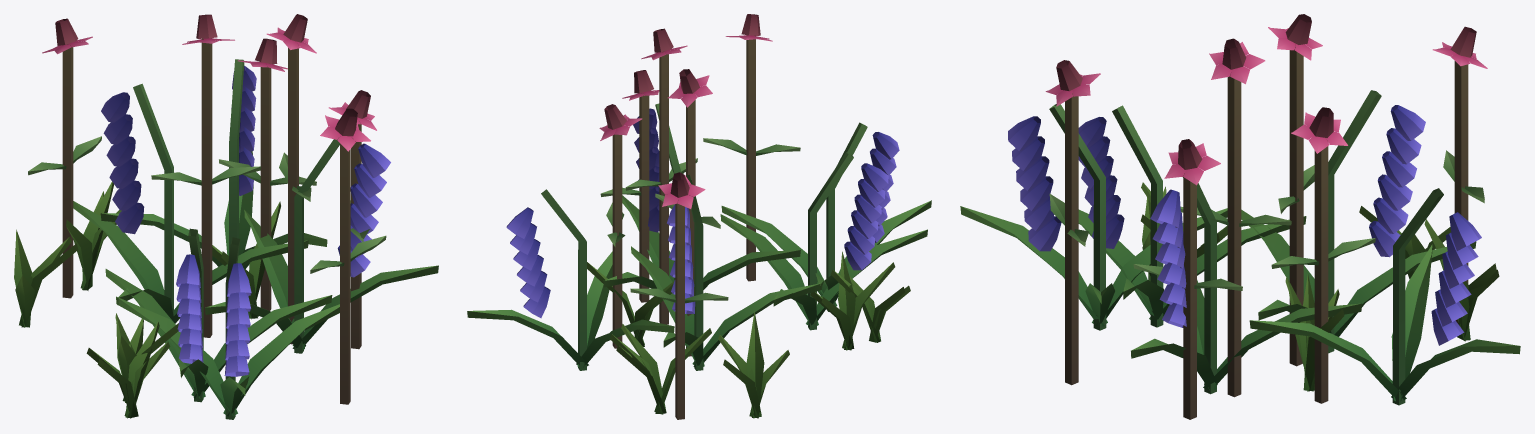
The model's file is fp_campion.glb.
3 renders of one model, left to right at view 1: azimuth 30°, elevation 25°; view 2: azimuth 150°, elevation 25°; view 3: azimuth 270°, elevation 25°, orthographic. The views are drawn at different scales.
Parts seen in each view (by area): view 1: fp_campion; view 2: fp_campion; view 3: fp_campion.
Boxes of the visible parts, <box> form: fp_campion: <box>14,14,438,419</box>; fp_campion: <box>467,14,931,419</box>; fp_campion: <box>960,14,1520,419</box>.
Size of the model in its own units: 0.6808 by 0.6325 by 0.8999.
